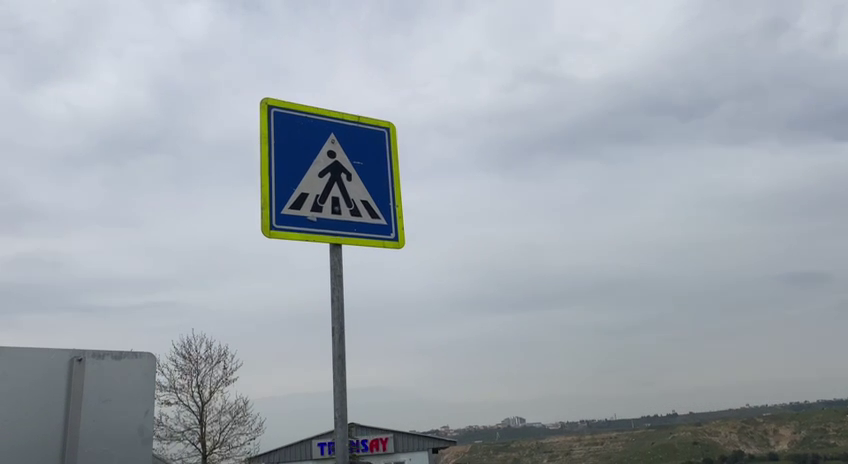pedestrianCrossing: (257, 93, 408, 253)
